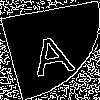A: (25, 24, 78, 77)
